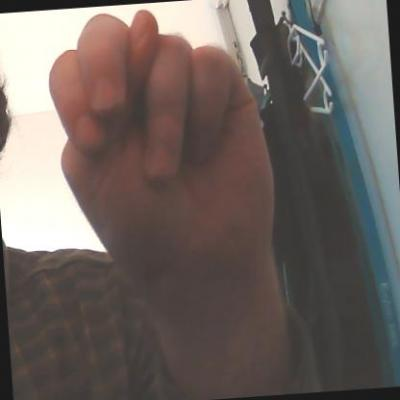hand: (42, 0, 279, 299)
